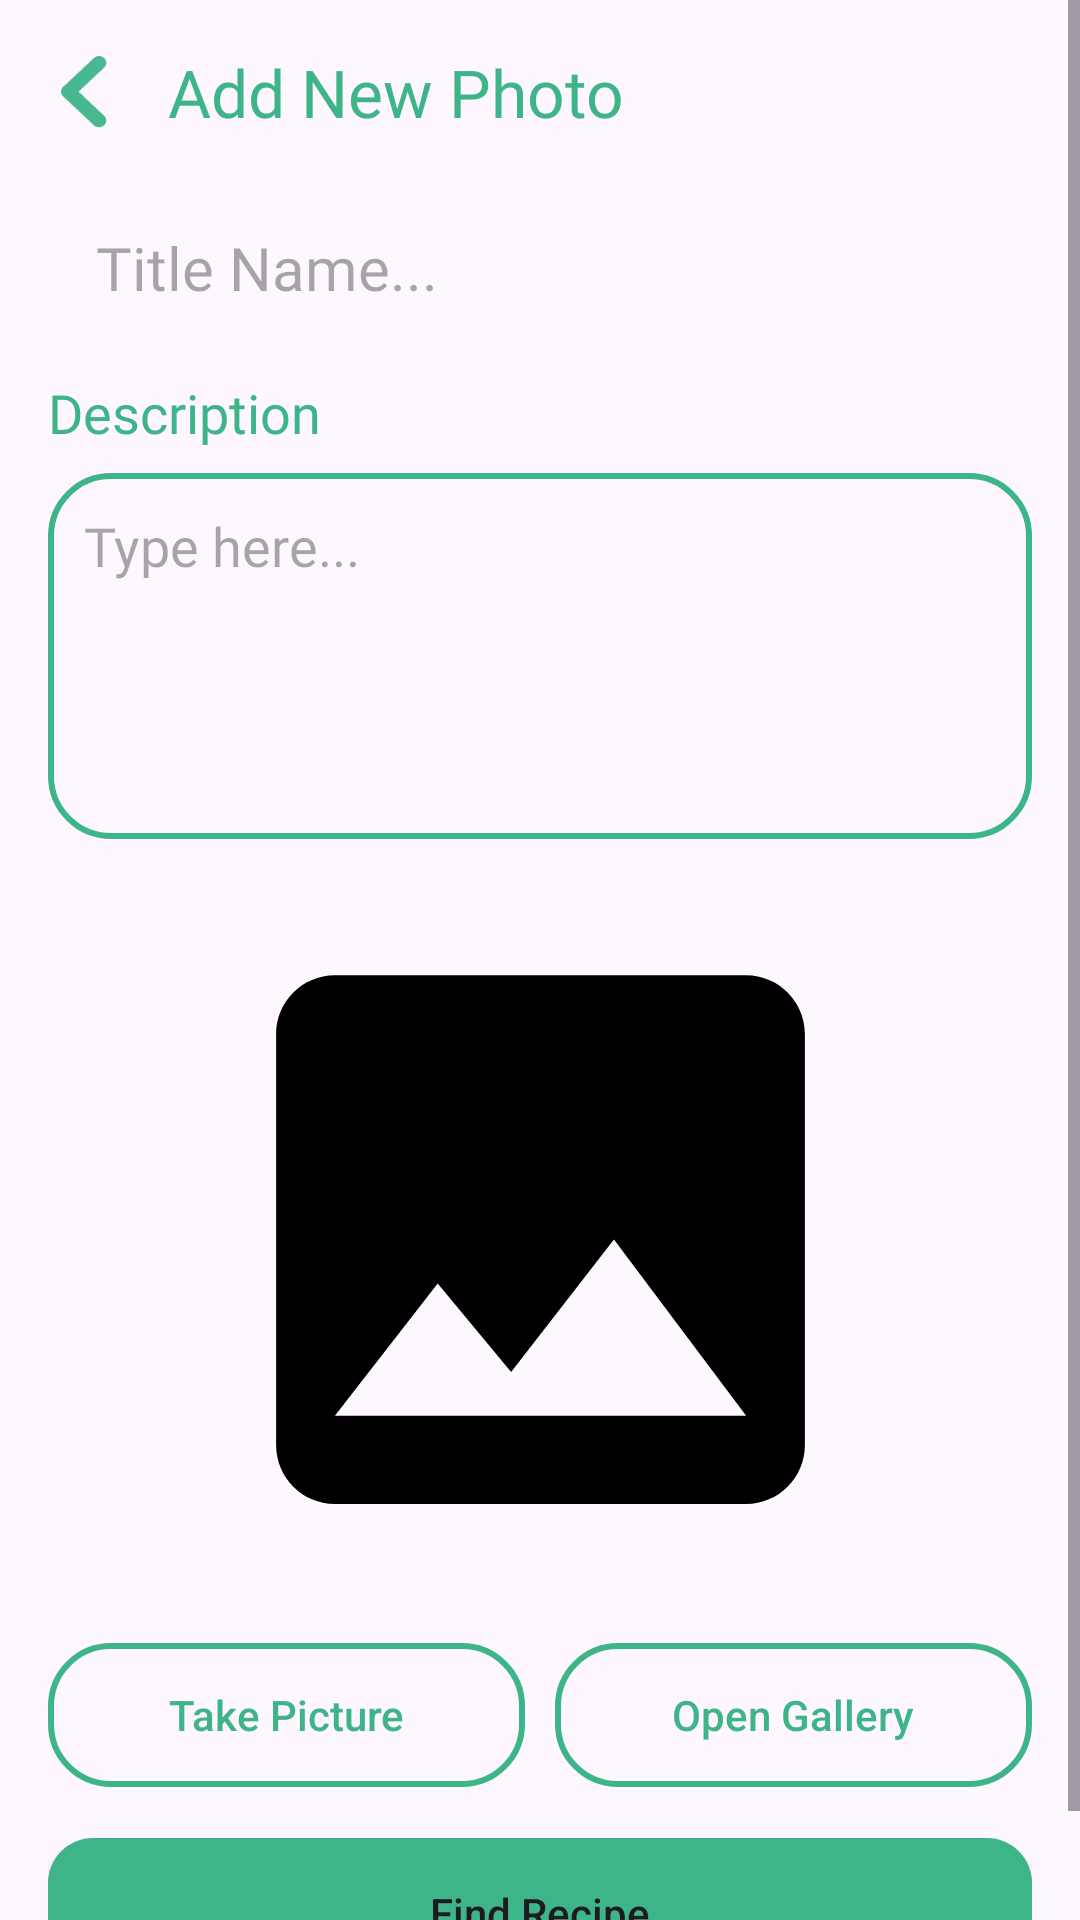

Where to tap for icons on this 1080 × 1920 app screen, as [x,y]:
Back: [84,92]
